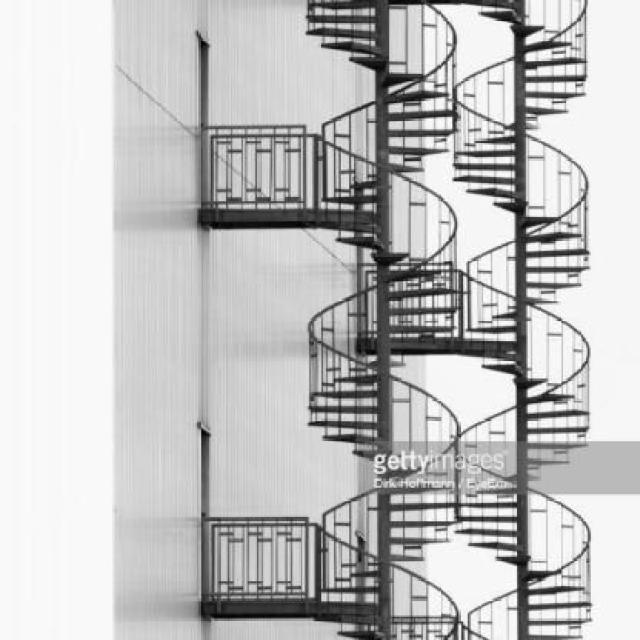stair: (192, 110, 617, 350), (464, 486, 601, 640), (330, 491, 452, 638), (307, 366, 422, 463), (501, 382, 592, 469)
